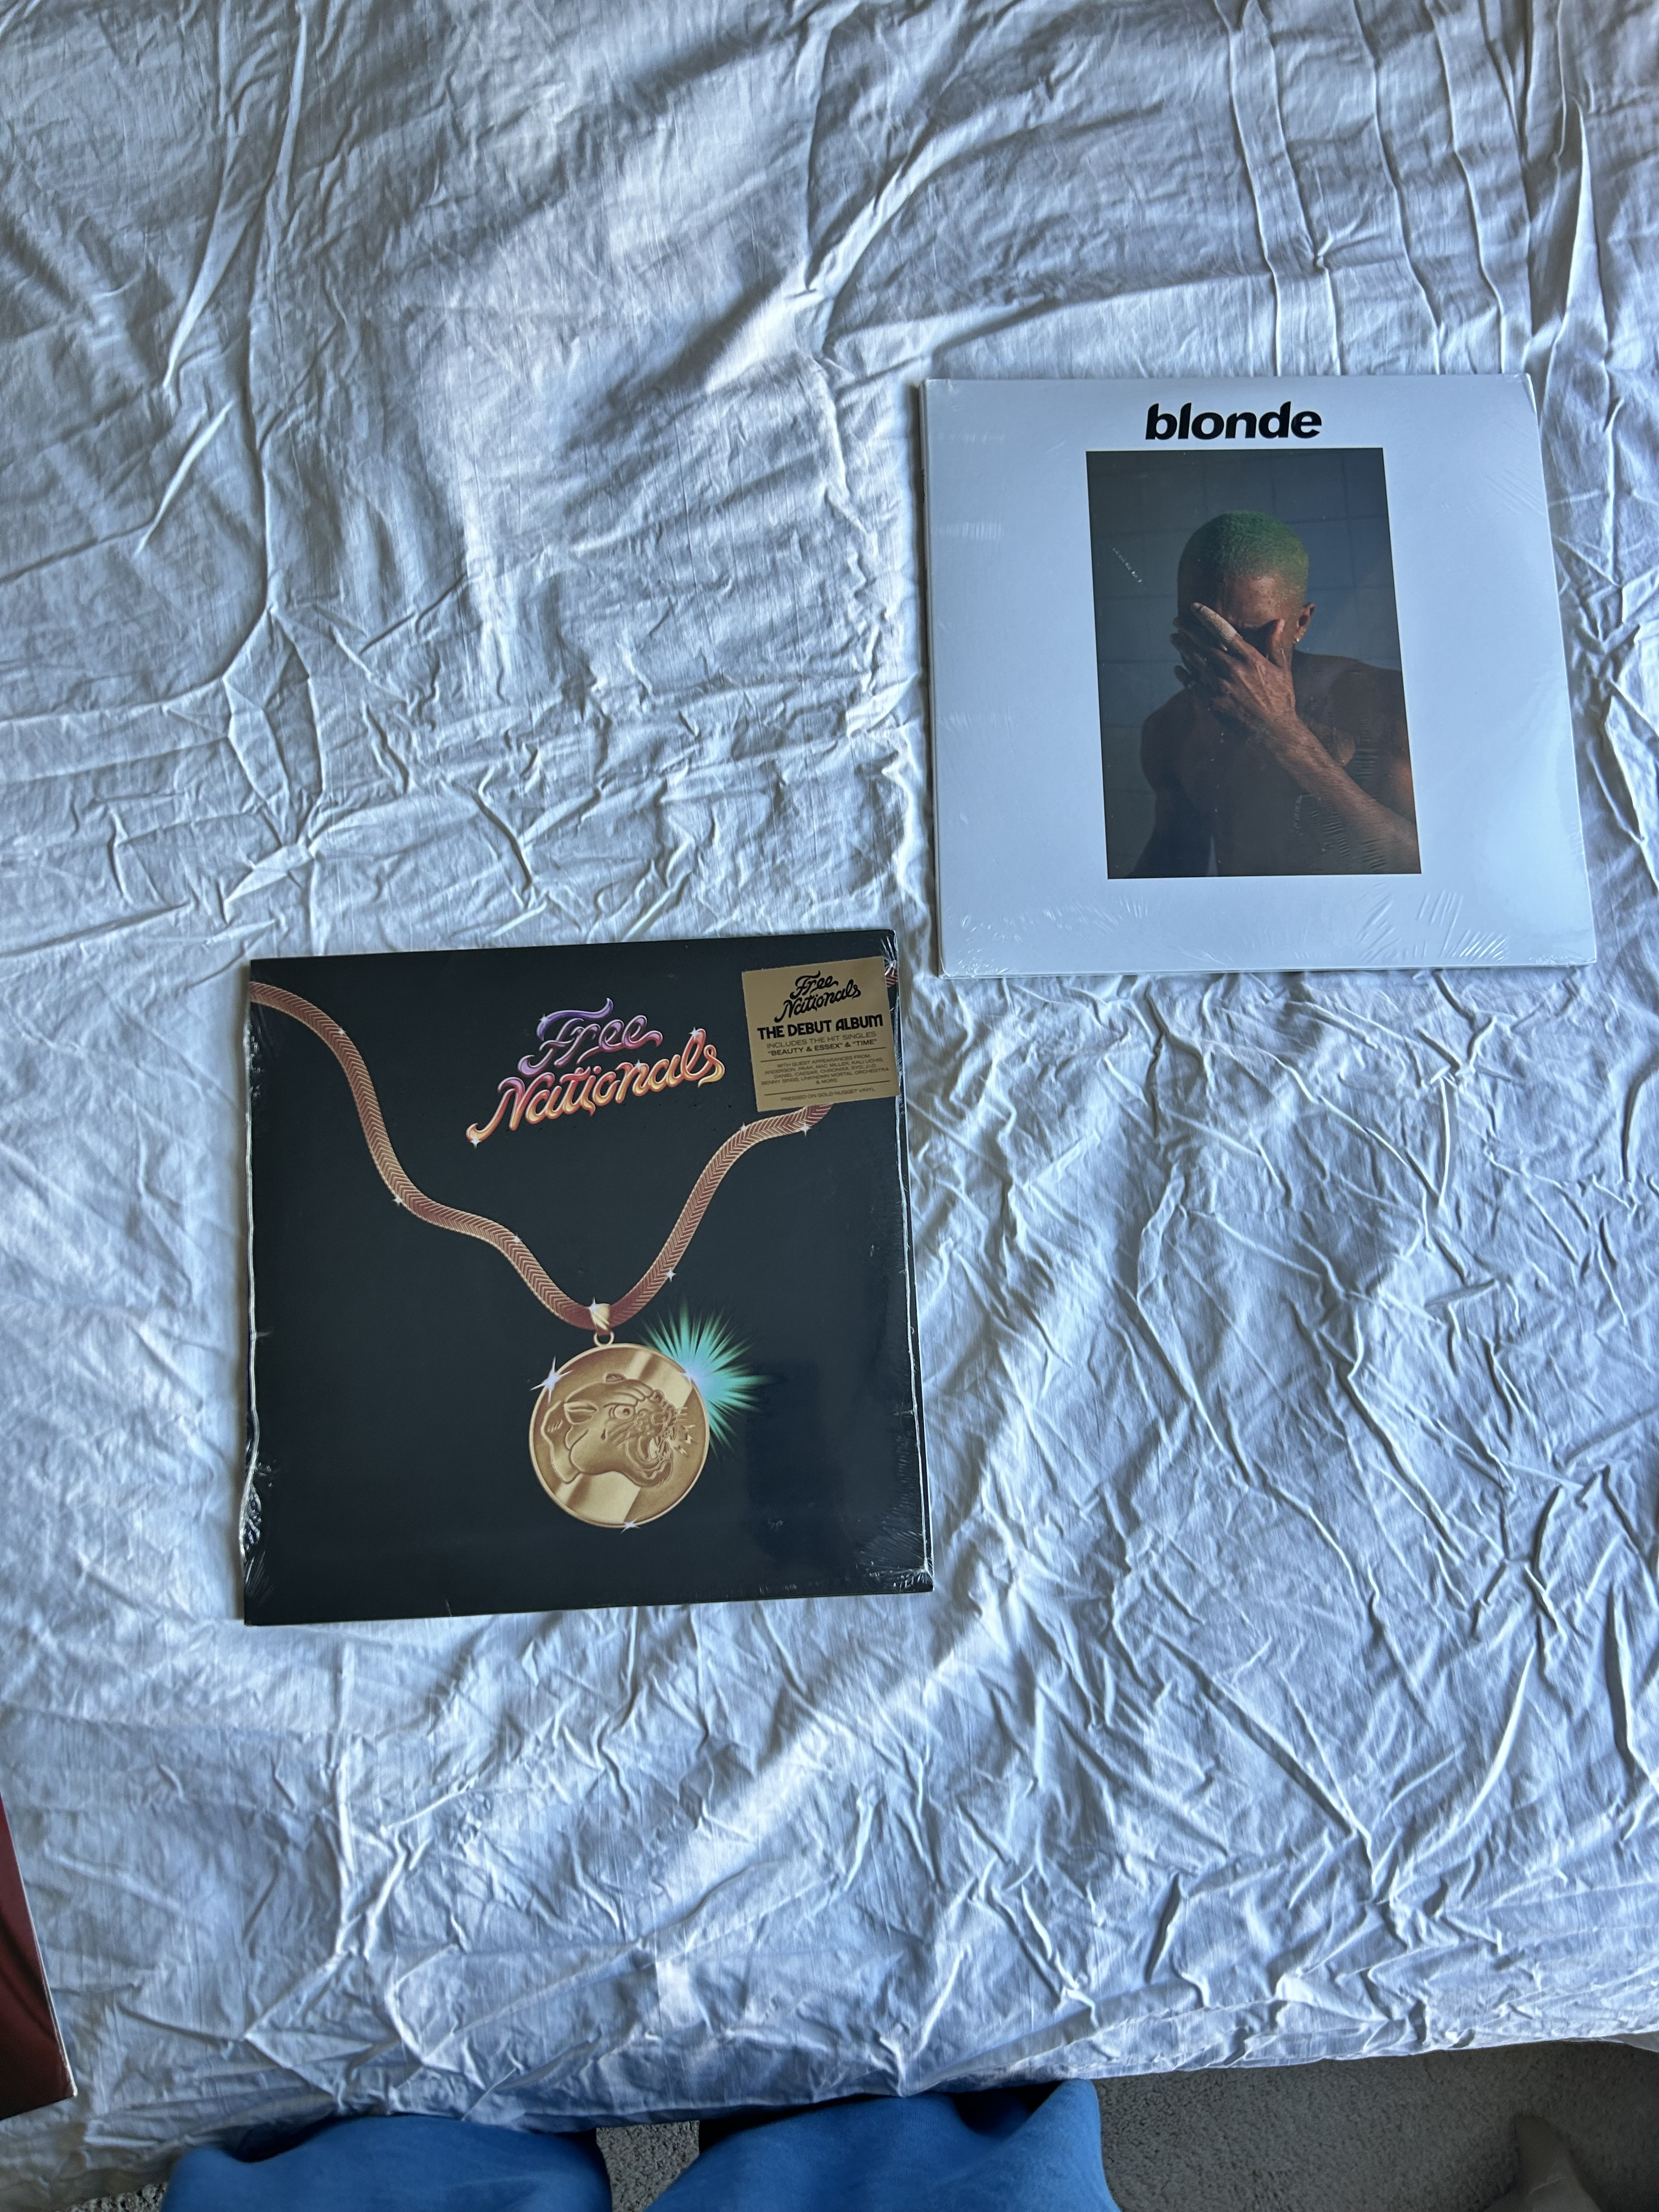frank ocean_blonde: (918, 383, 1595, 982)
free nationals_free nationals: (218, 954, 894, 1629)
